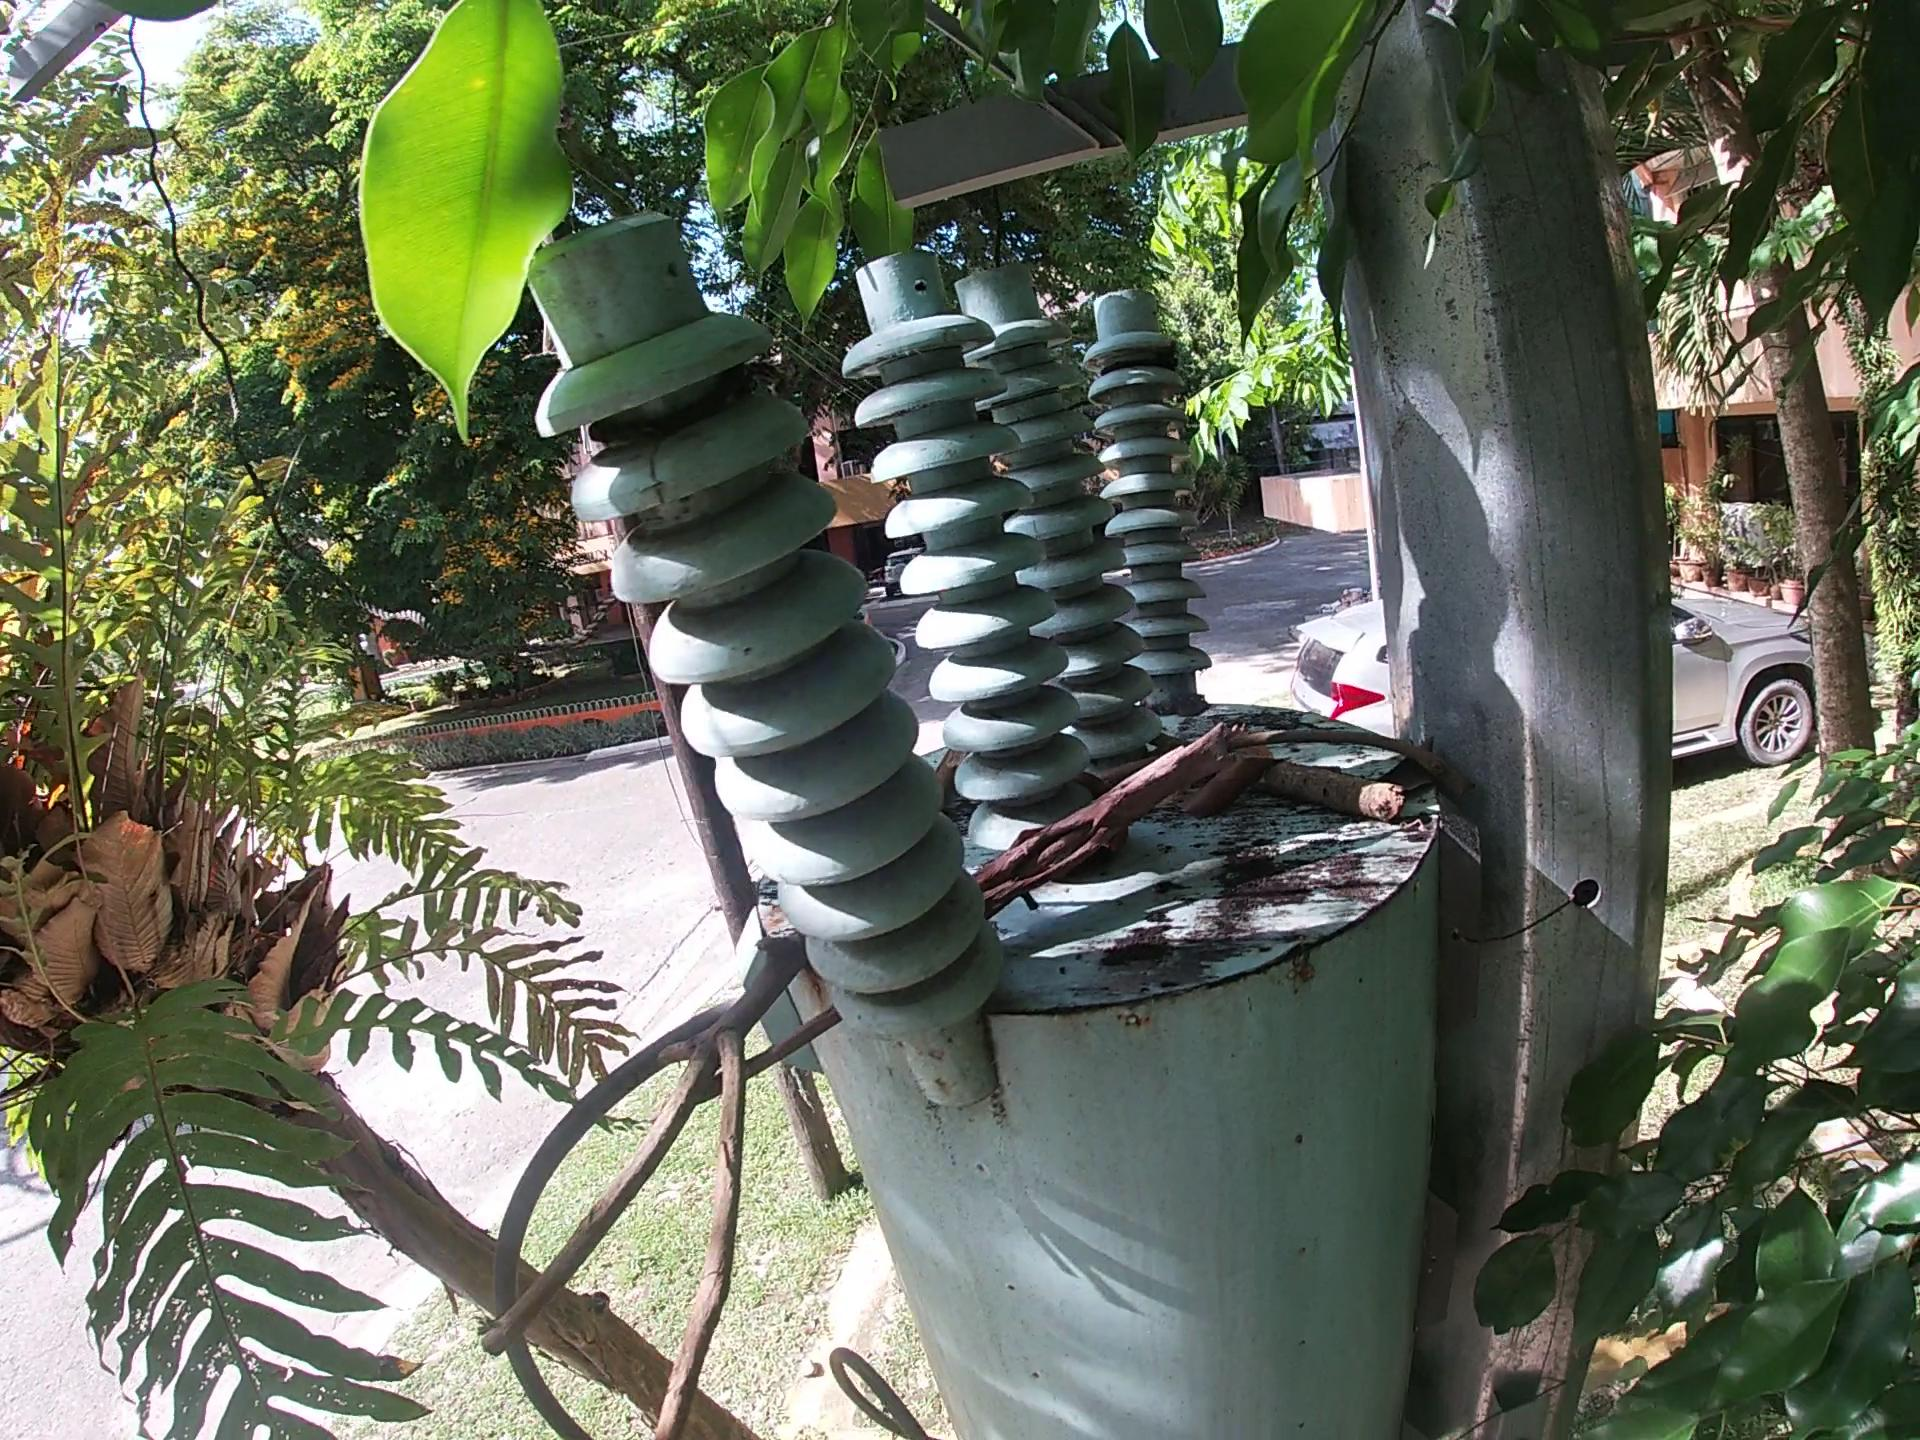leaf: (1178, 749, 1288, 823), (1370, 734, 1442, 797)
tree branch: (475, 929, 818, 1438), (966, 718, 1238, 918), (1095, 725, 1482, 803), (1150, 735, 1407, 824), (688, 992, 850, 1107)
